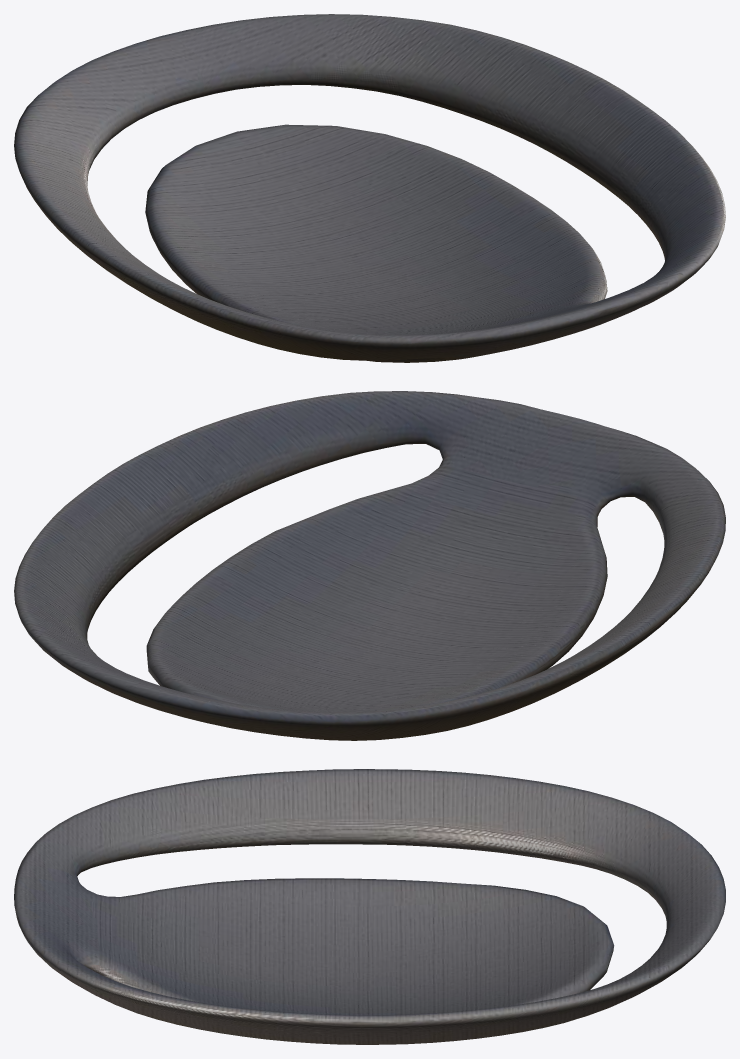
File: 03_Clip.glb
3 renders of one model, top to bottom at view 1: azimuth 30°, elevation 25°; view 2: azimuth 150°, elevation 25°; view 3: azimuth 270°, elevation 25°, orthographic. The views are drawn at different scales.
Visible parts, largest first — view 1: 03_Clip; view 2: 03_Clip; view 3: 03_Clip.
Part boxes in pixels (left/top/right/bottom): 03_Clip: left=14, top=14, right=725, bottom=362; 03_Clip: left=14, top=391, right=725, bottom=740; 03_Clip: left=14, top=769, right=725, bottom=1044.
Size of the model in its own units: 0.0538 by 0.0106 by 0.0646.
Materials: 1 (1 with a texture image).
